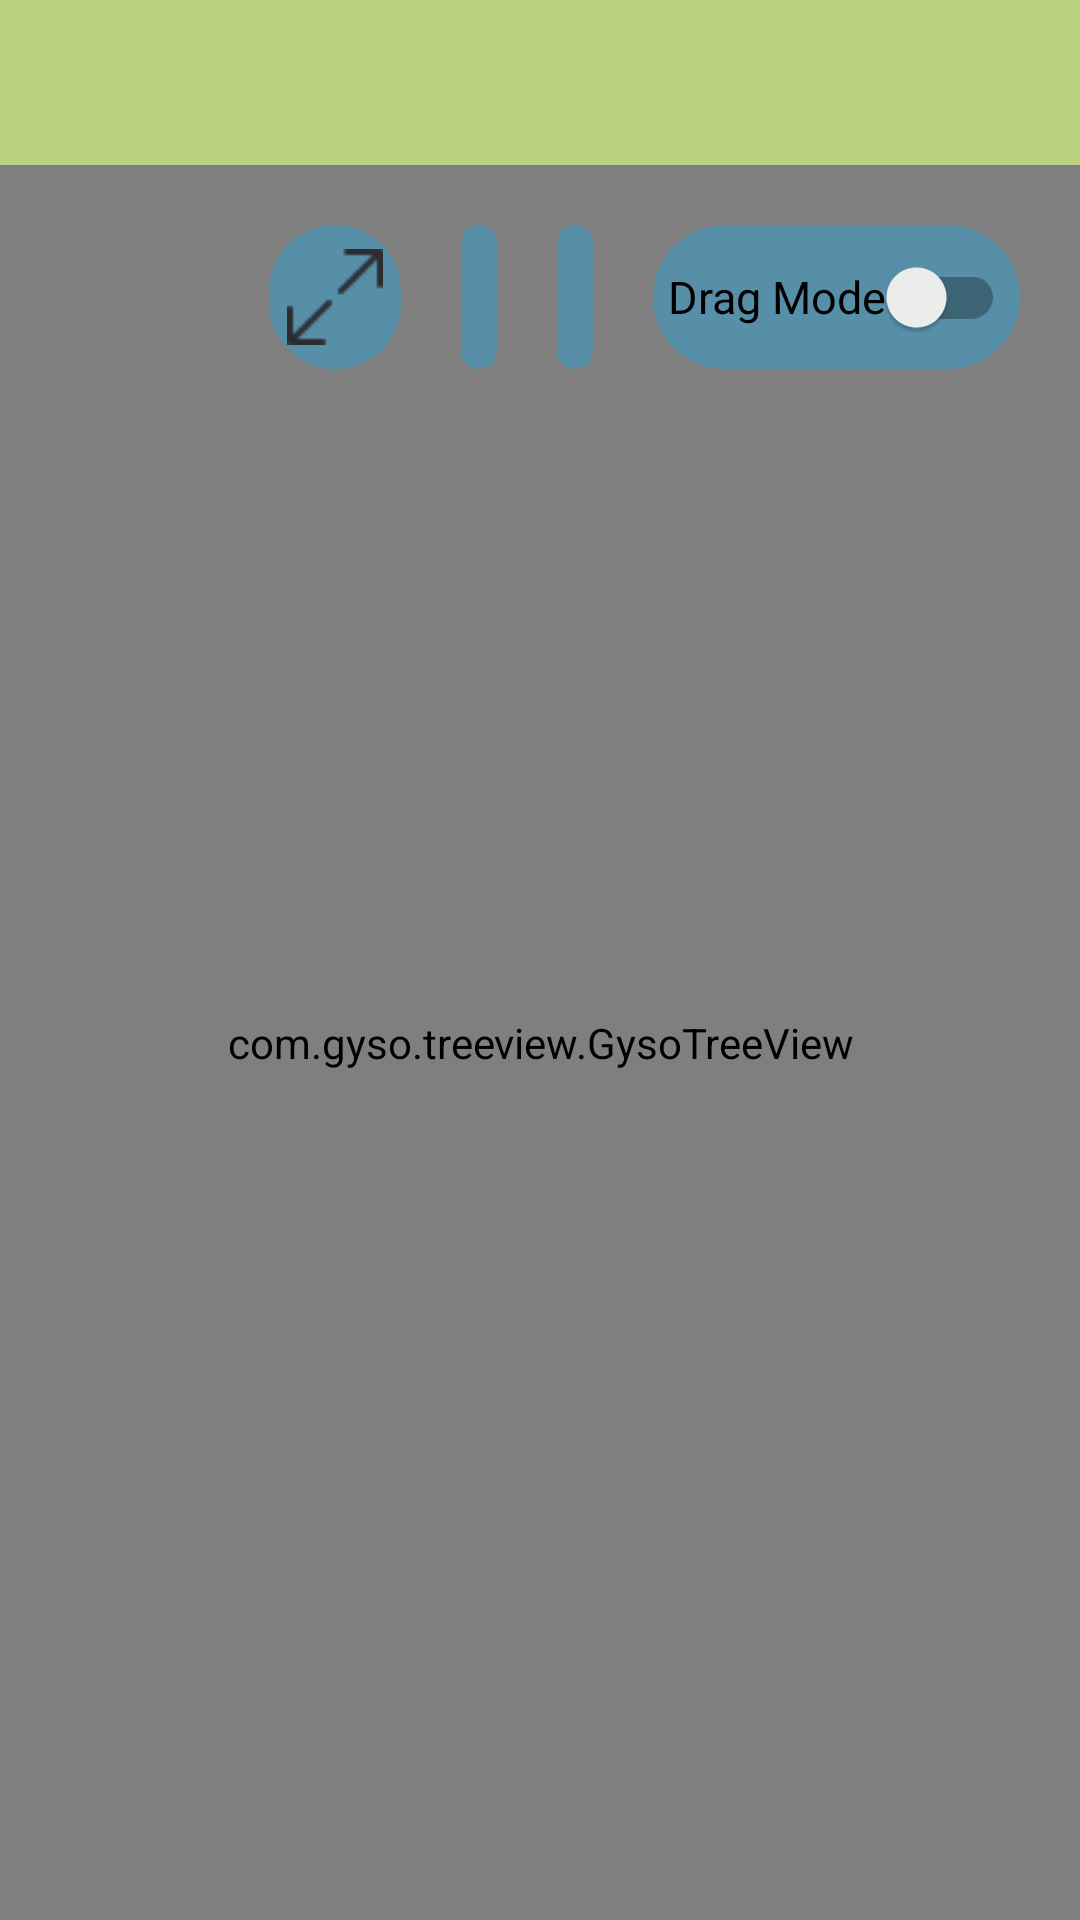

Icon click points for this 1080 x 1920 phone screenshot, format (x=x, y=y):
fullscreen: (x=335, y=297)
